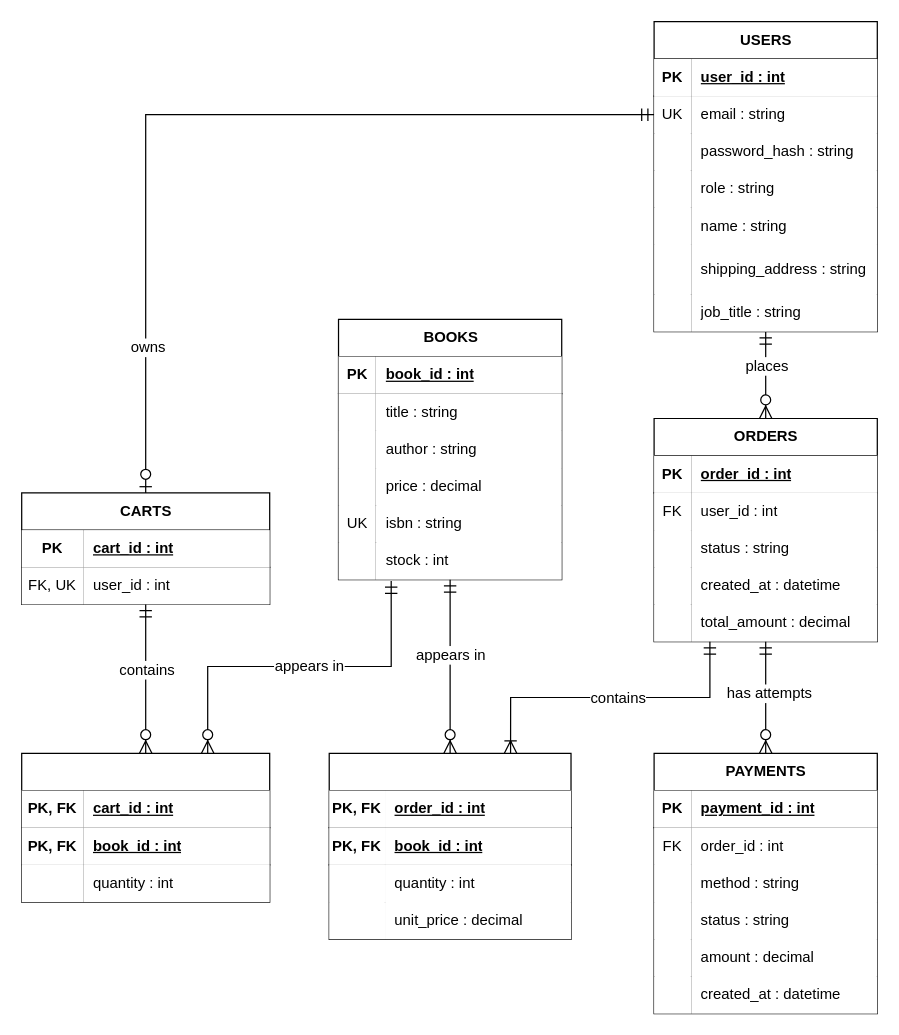
Some shapes in this 899 by 1035 pixel diagram are drawn without their labels. The shapes that lost their labels are listed below. From the top down, each one's box as (x1, y1, x2, y2) in pixels, then its label:
(20, 752, 270, 902): CART_ITEMS
(328, 752, 571, 939): ORDER_ITEMS
